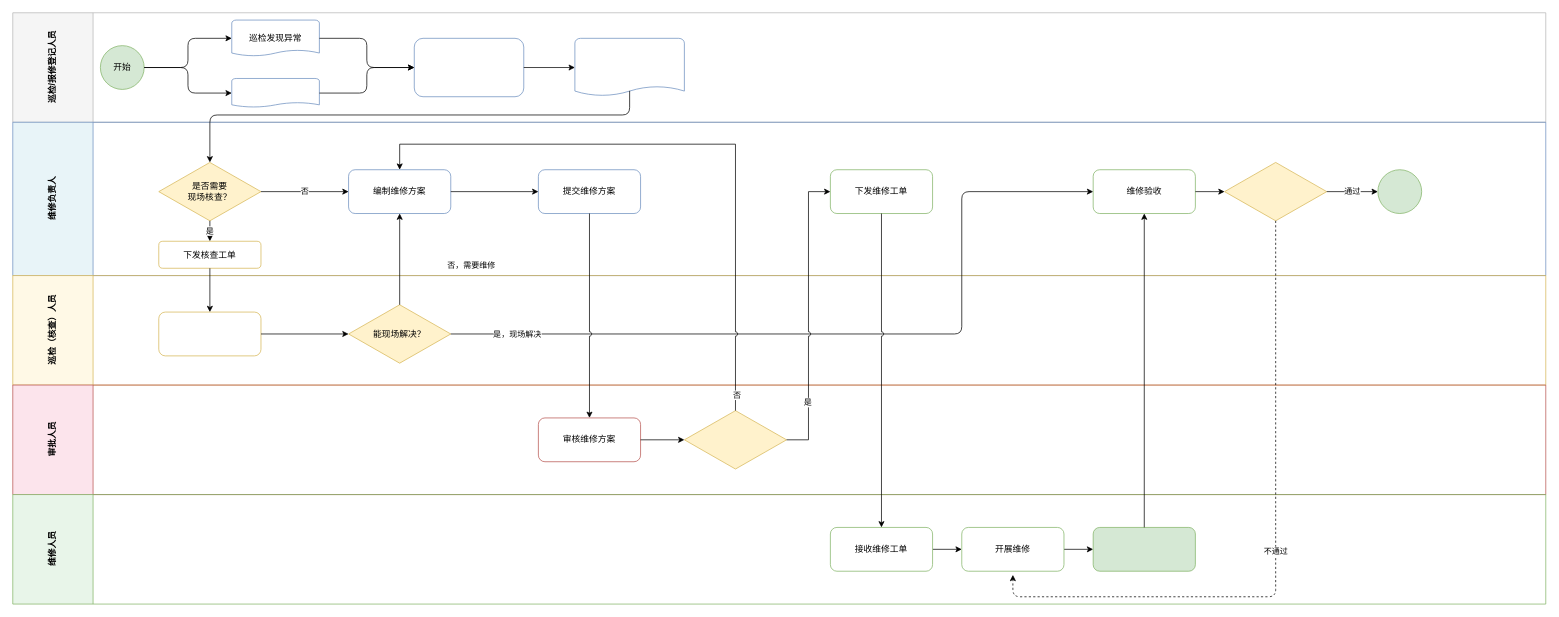
Image size: 1559x617. Some labels were removed from this diagram. The centre of each missing label's shape, as x and y in pixels:
他人报修: the point at 275,93
创建报修单 选择维修类型与维修负责人: the point at 469,67
完成维修 提交验收: the point at 1143,549
执行现场核查: the point at 209,333
报修完成: the point at 1399,191
是否通过？: the point at 735,439
维修类型 物流设备 / 月台 / 其他设施: the point at 629,67
验收是否通过？: the point at 1275,191
